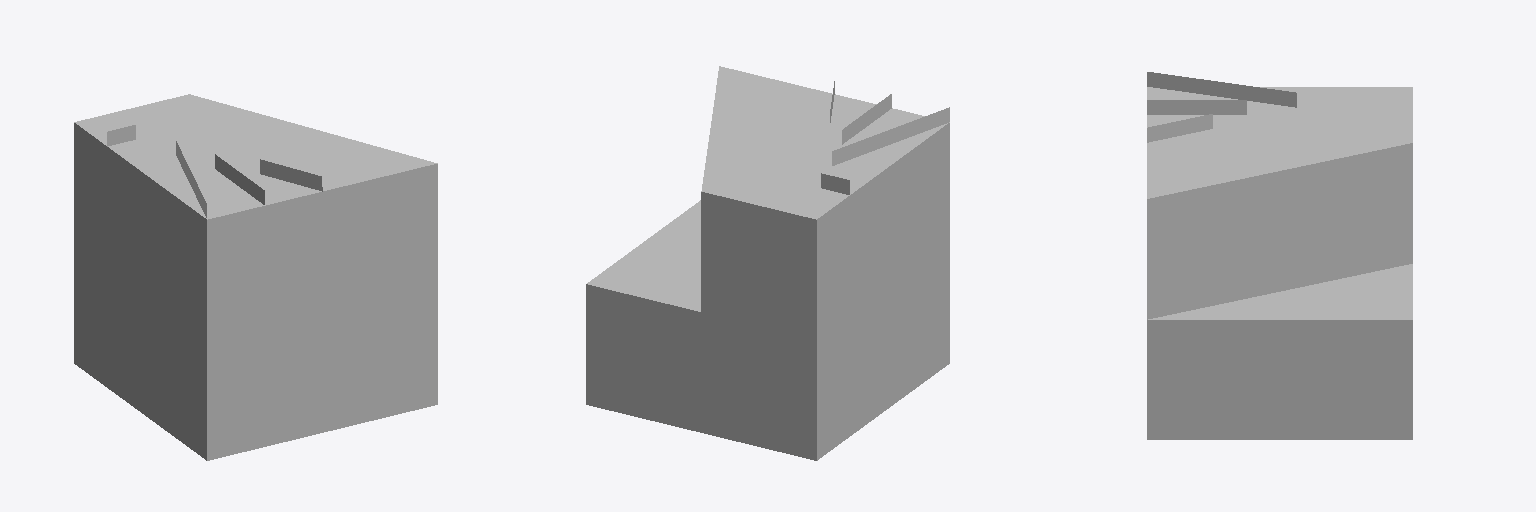
File: blushrock_527l.obj
3 views of the same model, side by side, from view 1: azimuth 30°, elevation 25°; view 2: azimuth 150°, elevation 25°; view 3: azimuth 270°, elevation 25° (orthographic).
Size of the model in its own units: 1 by 1.06 by 1.